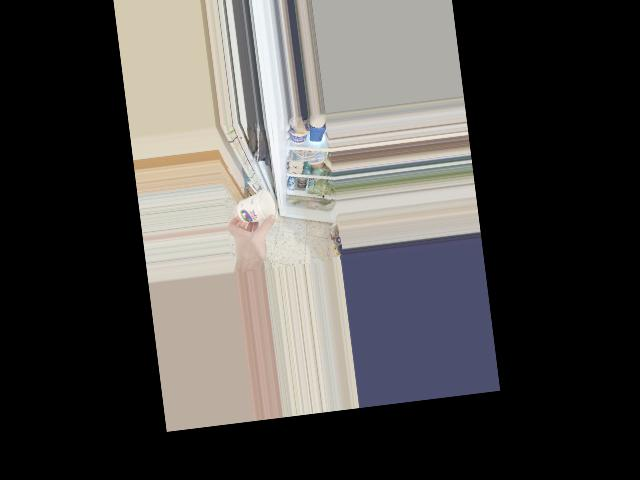cotage: (233, 189, 276, 227)
